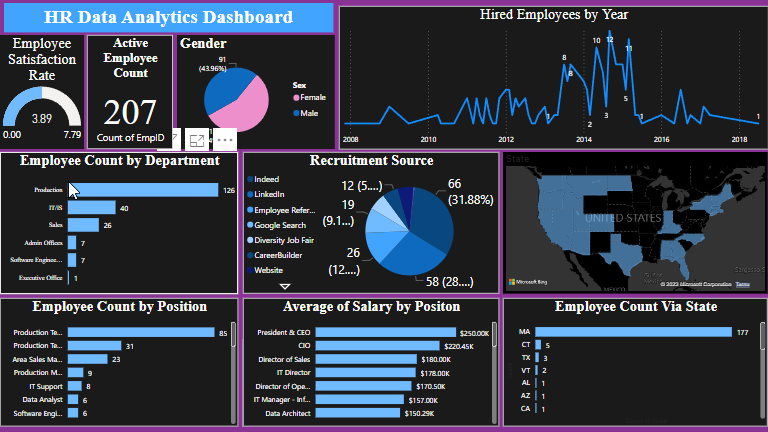

The dashboard page shown, as its layout file describes it:
{"tool":"powerbi","page":{"name":"Page 1","canvas":[1280,720],"ordinal":0},"visuals":[{"type":"pieChart","title":"Gender","fields":{"Y":["CountNonNull(HR_Data.Sex)"],"Category":["HR_Data.Sex"]},"box":[295.7,58.6,262.9,190],"z":0},{"type":"textbox","box":[7.1,4.3,548.6,48.6],"z":1000},{"type":"clusteredBarChart","title":"Employee Count by Department","fields":{"Category":["Department.Department_Name"],"Y":["CountNonNull(HR_Data.DepartmentID)"]},"box":[0,252.9,397.1,237.1],"z":2000},{"type":"clusteredBarChart","title":"Employee Count by Position","fields":{"Category":["Position.Positon Name"],"Y":["CountNonNull(HR_Data.PositionID)"]},"box":[0,497.1,397.1,214.3],"z":3000},{"type":"card","title":"Active Employee Count","fields":{"Values":["CountNonNull(HR_Data.EmpID)"]},"box":[145.7,58.6,142.9,190],"z":4000},{"type":"clusteredBarChart","title":"Average of Salary by Positon","fields":{"Y":["Avg(HR_Data.Salary)"],"Category":["Position.Positon Name"]},"box":[405.7,497.1,427.1,214.3],"z":5000},{"type":"barChart","title":"Employee Count Via State","fields":{"Category":["HR_Data.State"],"Y":["CountNonNull(HR_Data.State)"]},"box":[838.6,497.1,441.4,214.3],"z":6000},{"type":"pieChart","title":"Recruitment Source","fields":{"Category":["HR_Data.RecruitmentSource"],"Y":["CountNonNull(HR_Data.RecruitmentSource)"]},"box":[405.7,252.9,427.1,235.7],"z":7000},{"type":"gauge","title":"Employee Satisfaction Rate","fields":{"Y":["Avg(HR_Data.EmpSatisfaction)"]},"box":[0,58.6,140,190],"z":8000},{"type":"filledMap","fields":{"Category":["HR_Data.State"]},"box":[838.6,252.9,441.4,235.7],"z":9000},{"type":"lineChart","title":"Hired Employees by Year","fields":{"Category":["HR_Data.DateofHire.Variation.Date Hierarchy.Year","HR_Data.DateofHire.Variation.Date Hierarchy.Month"],"Y":["CountNonNull(HR_Data.DateofHire)"]},"box":[564.3,10,715.7,238.6],"z":10000}]}

Visuals, with their boxes in screenshot pixels (x1, y1, x2, y2), scaled from the page's 1280x720 canvas onto the 768x432 screenshot:
"Gender" pieChart: rect(177, 35, 335, 149)
textbox: rect(4, 3, 333, 32)
"Employee Count by Department" clusteredBarChart: rect(0, 152, 238, 294)
"Employee Count by Position" clusteredBarChart: rect(0, 298, 238, 427)
"Active Employee Count" card: rect(87, 35, 173, 149)
"Average of Salary by Positon" clusteredBarChart: rect(243, 298, 500, 427)
"Employee Count Via State" barChart: rect(503, 298, 767, 427)
"Recruitment Source" pieChart: rect(243, 152, 500, 293)
"Employee Satisfaction Rate" gauge: rect(0, 35, 84, 149)
filledMap - HR_Data.State: rect(503, 152, 767, 293)
"Hired Employees by Year" lineChart: rect(339, 6, 767, 149)
